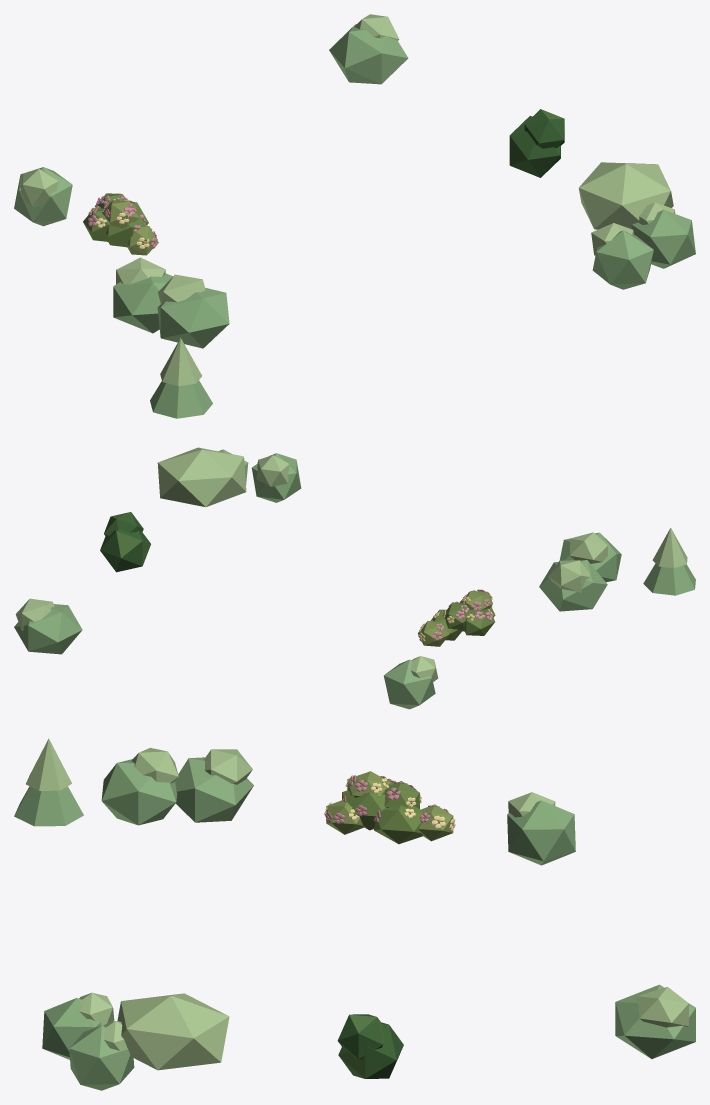
File: longgrass_meadow_wind_canopies.fbx
3 renders of one model, top to bottom at view 1: azimuth 30°, elevation 25°; view 2: azimuth 150°, elevation 25°; view 3: azimuth 270°, elevation 25°, orthographic. The views are drawn at different scales.
Parts seen in each view (by area): view 1: chunk_longgrass_meadow__tree_canopy_11, chunk_longgrass_meadow__tree_canopy_06, chunk_longgrass_meadow__tree_canopy_09, chunk_longgrass_meadow__detail_scatter_tree_01_canopy, chunk_longgrass_meadow__detail_scatter_flowering_tree_canopy (×4), chunk_longgrass_meadow__tree_canopy_14, chunk_longgrass_meadow__tree_canopy_15, chunk_longgrass_meadow__tree_canopy_04, chunk_longgrass_meadow__tree_canopy_01, chunk_longgrass_meadow__tree_canopy_08, chunk_longgrass_meadow__tree_canopy_02, chunk_longgrass_meadow__tree_canopy_07 (+3 smaller); view 2: chunk_longgrass_meadow__tree_canopy_11, chunk_longgrass_meadow__detail_scatter_flowering_tree_canopy (×4), chunk_longgrass_meadow__detail_scatter_tree_01_canopy, chunk_longgrass_meadow__tree_canopy_09, chunk_longgrass_meadow__tree_canopy_04, chunk_longgrass_meadow__tree_canopy_08, chunk_longgrass_meadow__tree_canopy_01, chunk_longgrass_meadow__tree_canopy_14, chunk_longgrass_meadow__tree_canopy_03, chunk_longgrass_meadow__tree_canopy_05, chunk_longgrass_meadow__tree_canopy_06, chunk_longgrass_meadow__tree_canopy_12 (+3 smaller); view 3: chunk_longgrass_meadow__tree_canopy_11, chunk_longgrass_meadow__detail_scatter_flowering_tree_canopy (×6), chunk_longgrass_meadow__tree_canopy_08, chunk_longgrass_meadow__tree_canopy_06, chunk_longgrass_meadow__tree_canopy_04, chunk_longgrass_meadow__detail_scatter_tree_01_canopy, chunk_longgrass_meadow__tree_canopy_09, chunk_longgrass_meadow__tree_canopy_15, chunk_longgrass_meadow__tree_canopy_01, chunk_longgrass_meadow__tree_canopy_14, chunk_longgrass_meadow__tree_canopy_10, chunk_longgrass_meadow__tree_canopy_02 (+4 smaller).
Boxes of the visible parts, x1,y1,x2,y2 form: chunk_longgrass_meadow__tree_canopy_11: (578,162,673,229); chunk_longgrass_meadow__tree_canopy_06: (157,287,229,348); chunk_longgrass_meadow__tree_canopy_09: (329,24,408,84); chunk_longgrass_meadow__detail_scatter_tree_01_canopy: (509,109,564,177); chunk_longgrass_meadow__detail_scatter_flowering_tree_canopy (×4): (83,198,158,255); chunk_longgrass_meadow__tree_canopy_14: (592,230,653,289); chunk_longgrass_meadow__tree_canopy_15: (631,209,695,268); chunk_longgrass_meadow__tree_canopy_04: (113,273,172,333); chunk_longgrass_meadow__tree_canopy_01: (150,380,212,418); chunk_longgrass_meadow__tree_canopy_08: (14,167,72,226); chunk_longgrass_meadow__tree_canopy_02: (160,338,201,386); chunk_longgrass_meadow__tree_canopy_07: (21,169,58,206); chunk_longgrass_meadow__tree_canopy_11: (157,447,246,507); chunk_longgrass_meadow__detail_scatter_flowering_tree_canopy (×4): (418,589,494,646); chunk_longgrass_meadow__detail_scatter_tree_01_canopy: (100,512,150,572); chunk_longgrass_meadow__tree_canopy_09: (14,604,82,654); chunk_longgrass_meadow__tree_canopy_04: (539,560,607,611); chunk_longgrass_meadow__tree_canopy_08: (383,659,435,709); chunk_longgrass_meadow__tree_canopy_01: (643,563,695,595); chunk_longgrass_meadow__tree_canopy_14: (251,453,301,502); chunk_longgrass_meadow__tree_canopy_03: (548,560,589,593); chunk_longgrass_meadow__tree_canopy_05: (570,532,607,563); chunk_longgrass_meadow__tree_canopy_06: (559,532,621,582); chunk_longgrass_meadow__tree_canopy_12: (256,455,289,486); chunk_longgrass_meadow__tree_canopy_11: (117,993,229,1070); chunk_longgrass_meadow__detail_scatter_flowering_tree_canopy (×6): (324,771,455,844); chunk_longgrass_meadow__tree_canopy_08: (507,800,575,865); chunk_longgrass_meadow__tree_canopy_06: (101,759,177,825); chunk_longgrass_meadow__tree_canopy_04: (175,757,253,822); chunk_longgrass_meadow__detail_scatter_tree_01_canopy: (337,1014,403,1078); chunk_longgrass_meadow__tree_canopy_09: (615,984,695,1058); chunk_longgrass_meadow__tree_canopy_15: (69,1025,134,1090); chunk_longgrass_meadow__tree_canopy_01: (14,786,83,826); chunk_longgrass_meadow__tree_canopy_14: (42,998,101,1059); chunk_longgrass_meadow__tree_canopy_10: (637,987,688,1027); chunk_longgrass_meadow__tree_canopy_02: (26,738,71,790).
Bounding box in the file's own units: 182 × 25.87 × 170.
